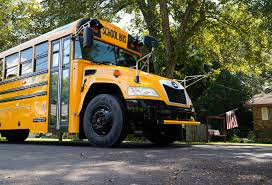bus: (1, 16, 201, 146)
